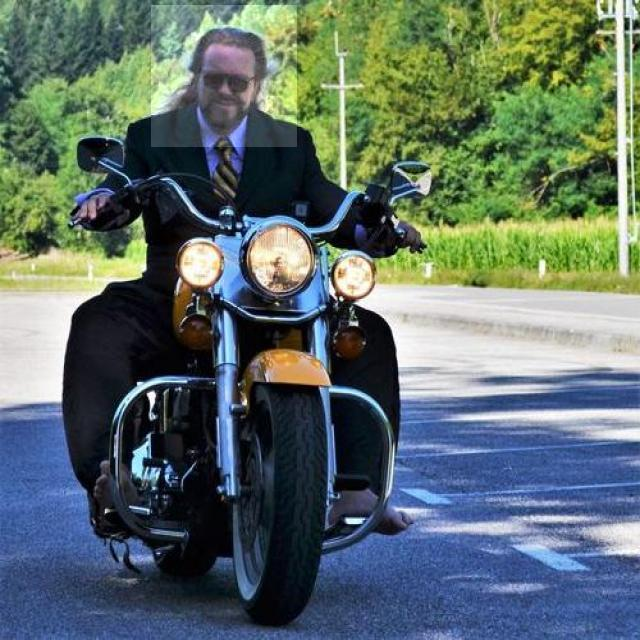No_Helmet: (152, 6, 298, 148)
